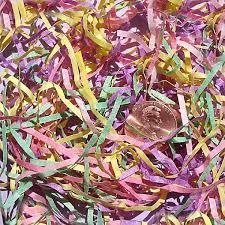Paper shavings: (1, 2, 225, 225)
